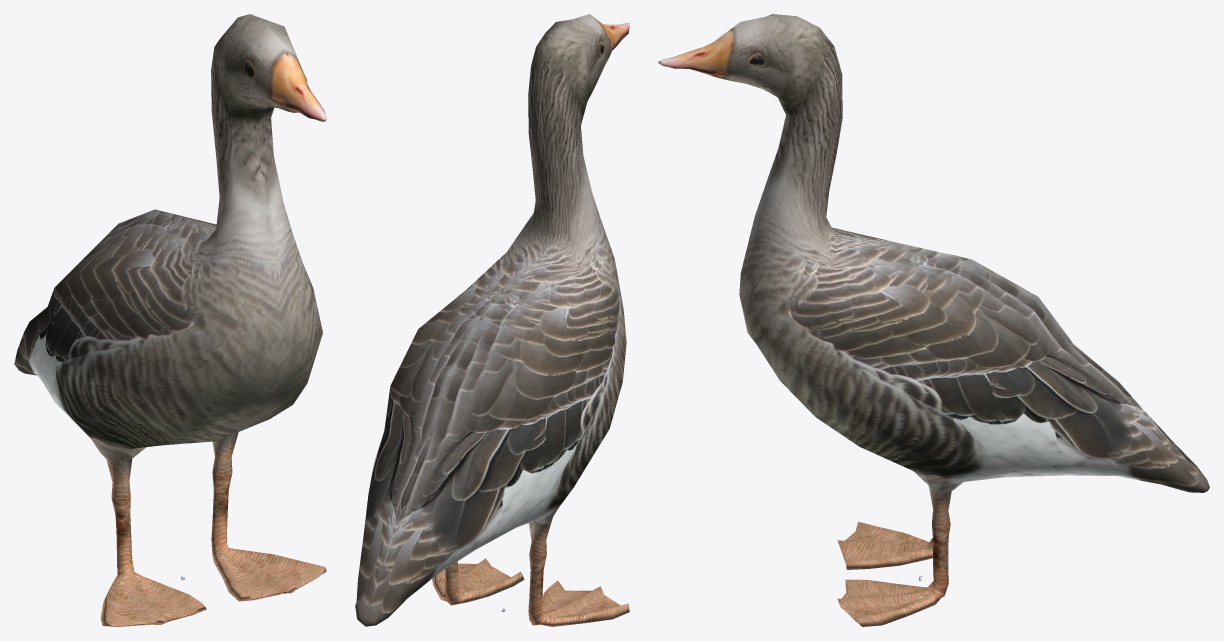
Rendered from goose.fbx.
3 views of the same model, side by side, from view 1: azimuth 30°, elevation 25°; view 2: azimuth 150°, elevation 25°; view 3: azimuth 270°, elevation 25° (orthographic). The views are drawn at different scales.
Visible parts, largest first — view 1: polySurface33; view 2: polySurface33; view 3: polySurface33.
Part boxes in pixels (box(x1,y1,x2,y2)): polySurface33: box(14, 14, 326, 626); polySurface33: box(355, 14, 629, 626); polySurface33: box(658, 14, 1209, 626).
Size of the model in its own units: 5.24 by 13.77 by 12.18.
2 materials, 1 textured.
